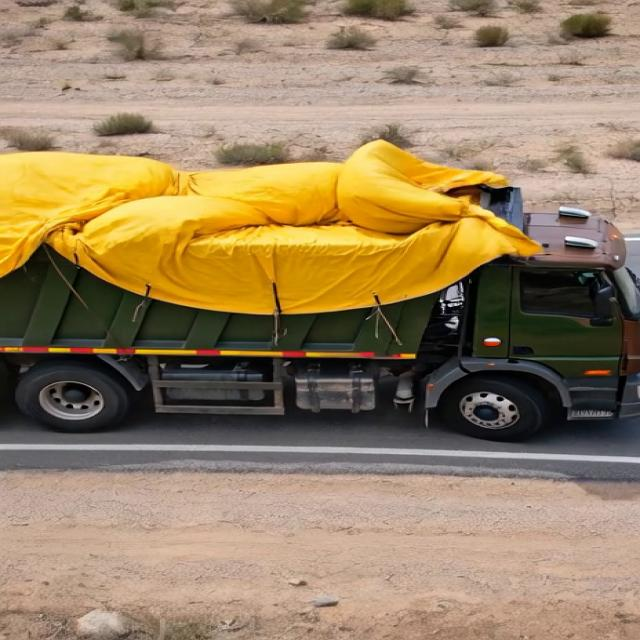Box: (16, 154, 498, 271)
Truck: (1, 152, 634, 440)
